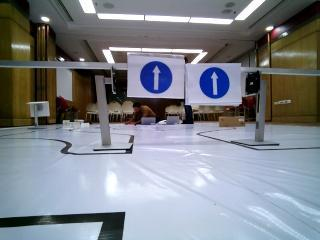straight: (127, 54, 183, 98), (186, 65, 239, 105)
